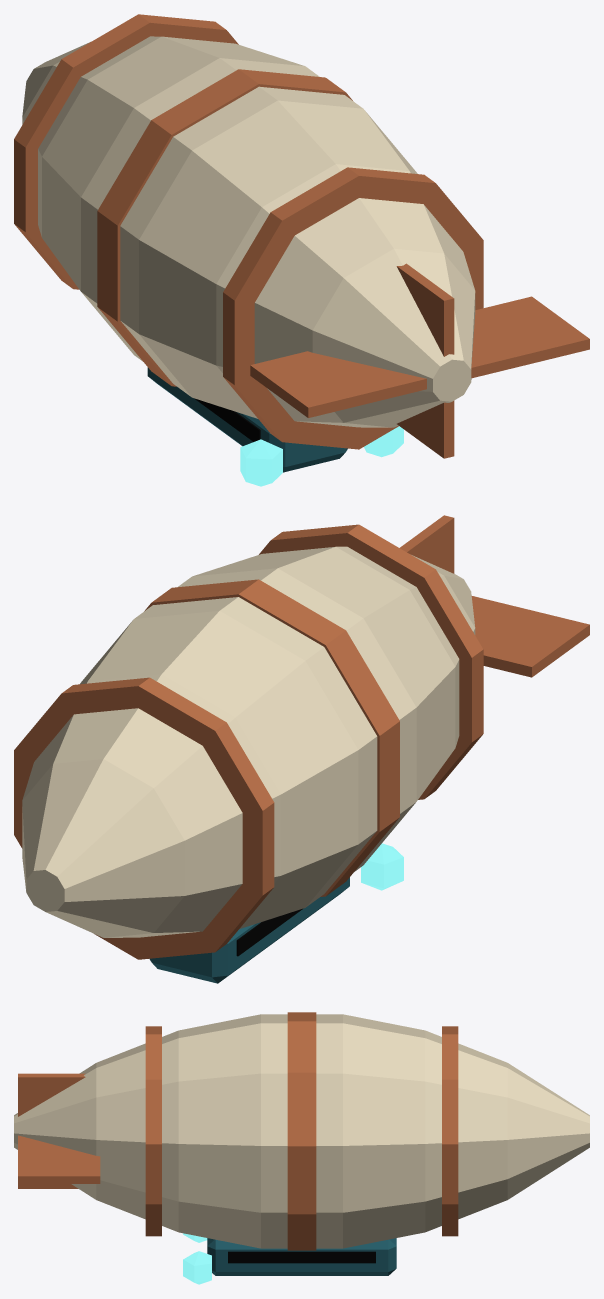
File: City_Airship.fbx
The picture shows the model from 3 angles, top to bottom: view 1: azimuth 30°, elevation 25°; view 2: azimuth 150°, elevation 25°; view 3: azimuth 270°, elevation 25°; orthographic projection. The views are drawn at different scales.
Visible parts, largest first — view 1: City_Airship; view 2: City_Airship; view 3: City_Airship.
Boxes of the visible parts, x1,y1,x2,y2 form: City_Airship: (14, 14, 589, 486); City_Airship: (14, 515, 589, 983); City_Airship: (14, 1012, 589, 1284).
Bounding box in the file's own units: 5.61 × 14 × 6.55.
